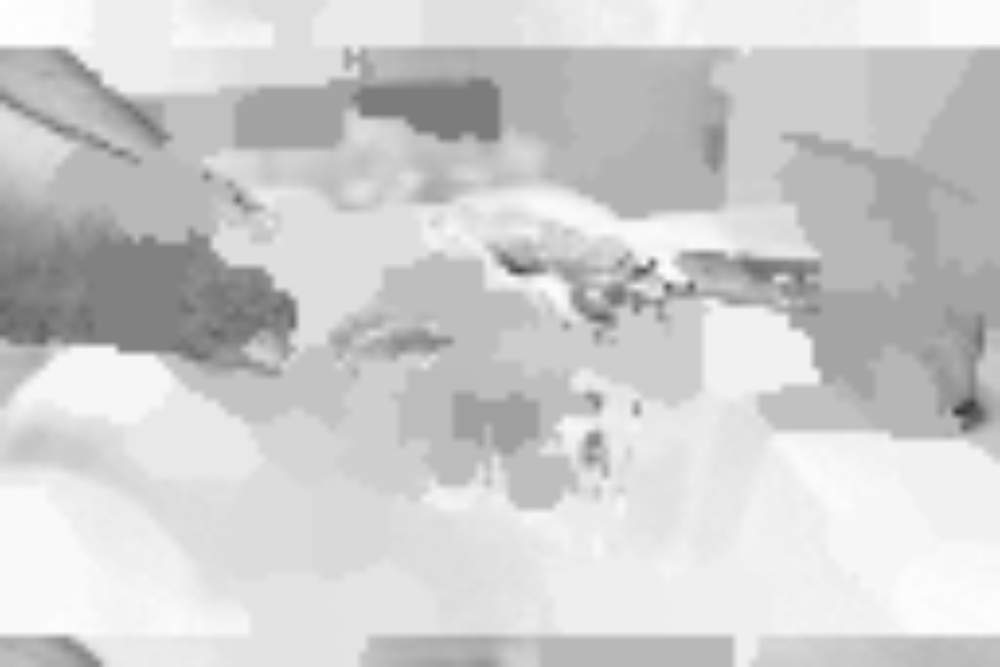washing hand: (288, 118, 962, 582)
